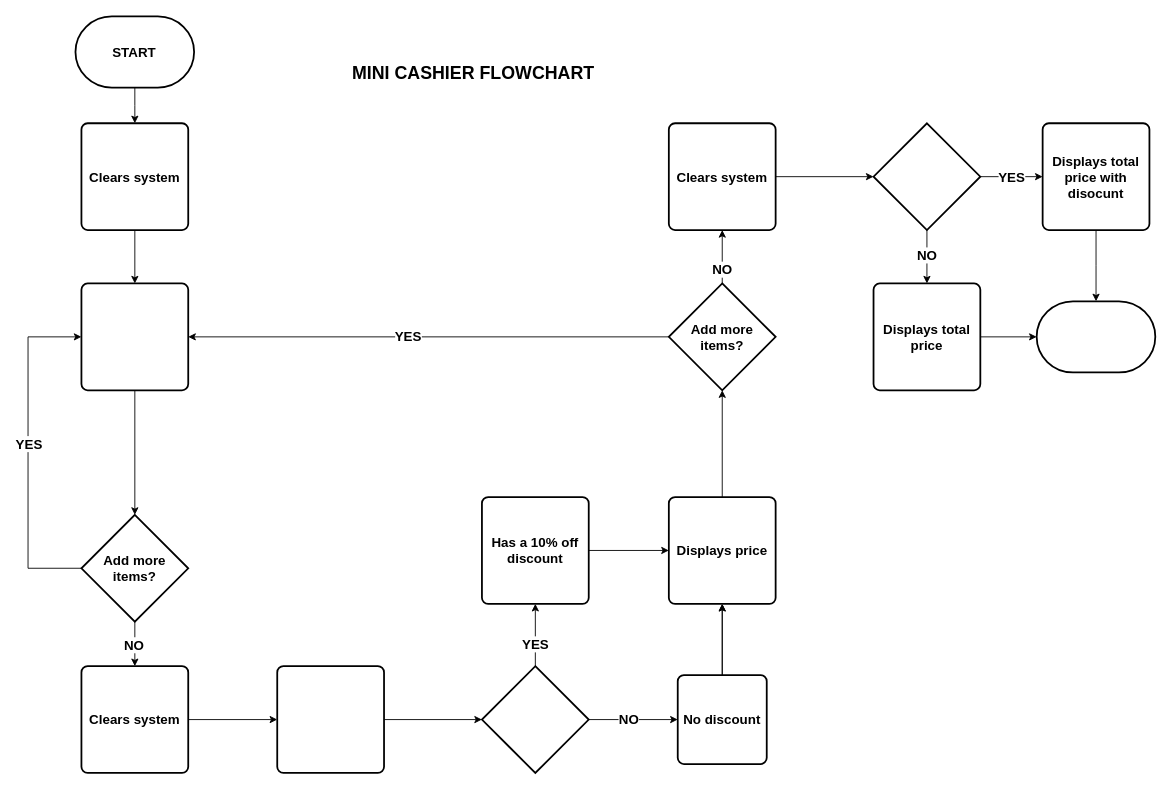
This 1172x789 diagram has some shape labels left out. Each missing label, with the centre of its shape:
Displays all items: (x=330, y=719)
END: (x=1095, y=336)
Inputs item name, price, quantity: (x=134, y=336)
Price above D$100?: (x=535, y=719)
Was there a discount: (x=926, y=176)
